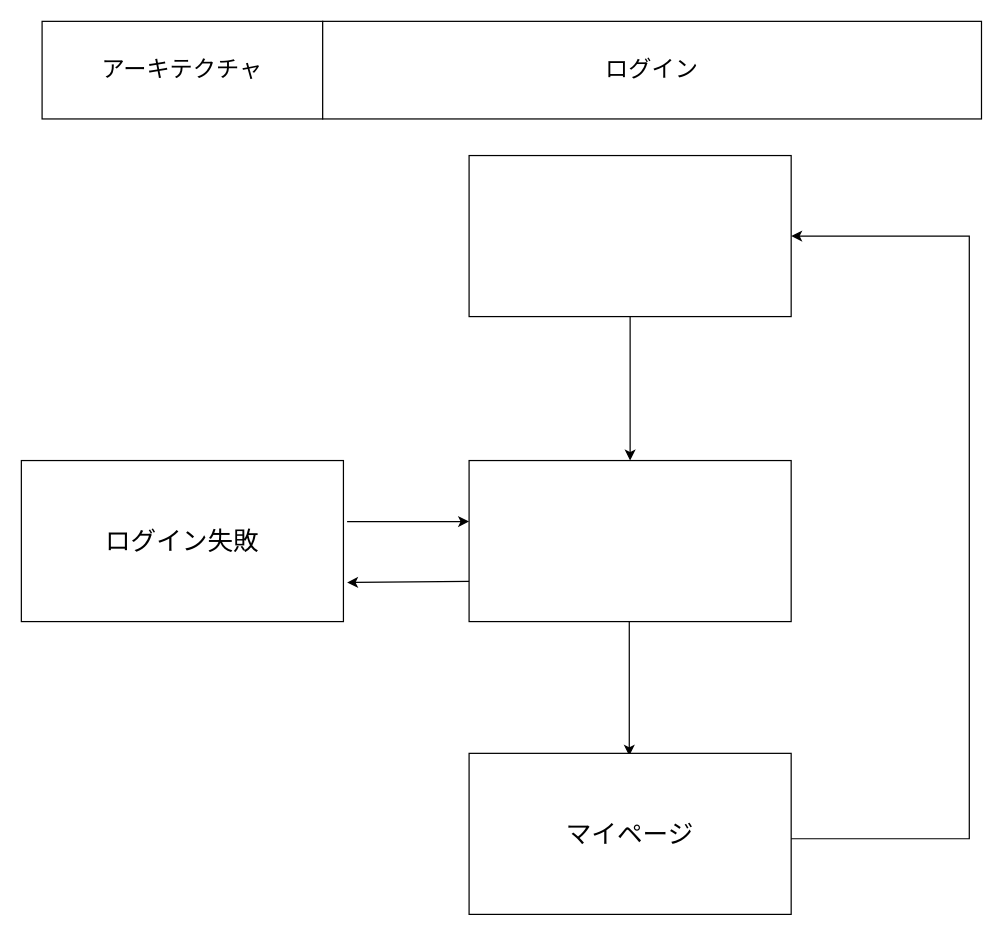
Image size: 1003x936. Some labels were removed from this diagram. Each missing label, with the box of its shape:
メイン画面 マイページ: (468, 154, 791, 317)
ログイン name pass: (468, 459, 791, 622)
